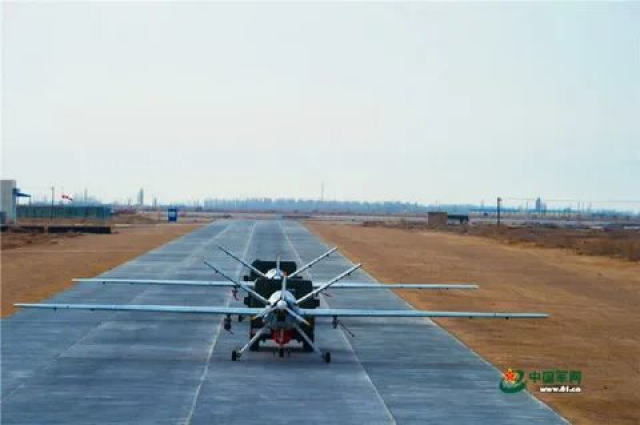military drone: (12, 259, 547, 363), (71, 245, 479, 322)
